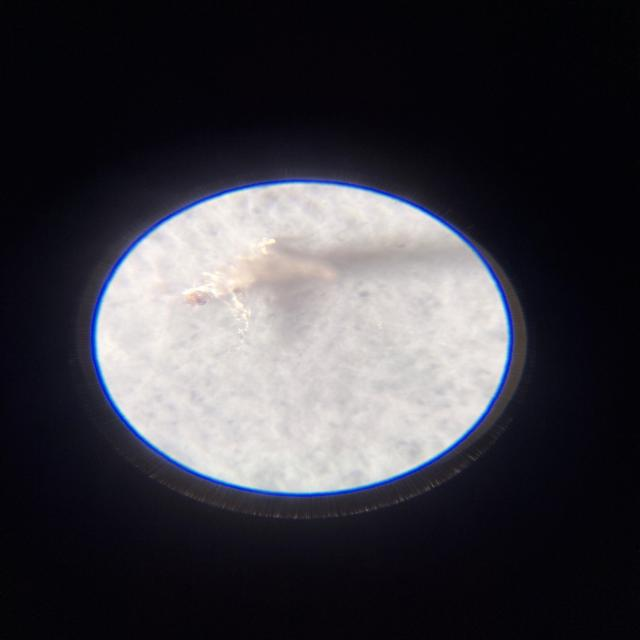microplastic_type_1: (183, 238, 336, 320)
